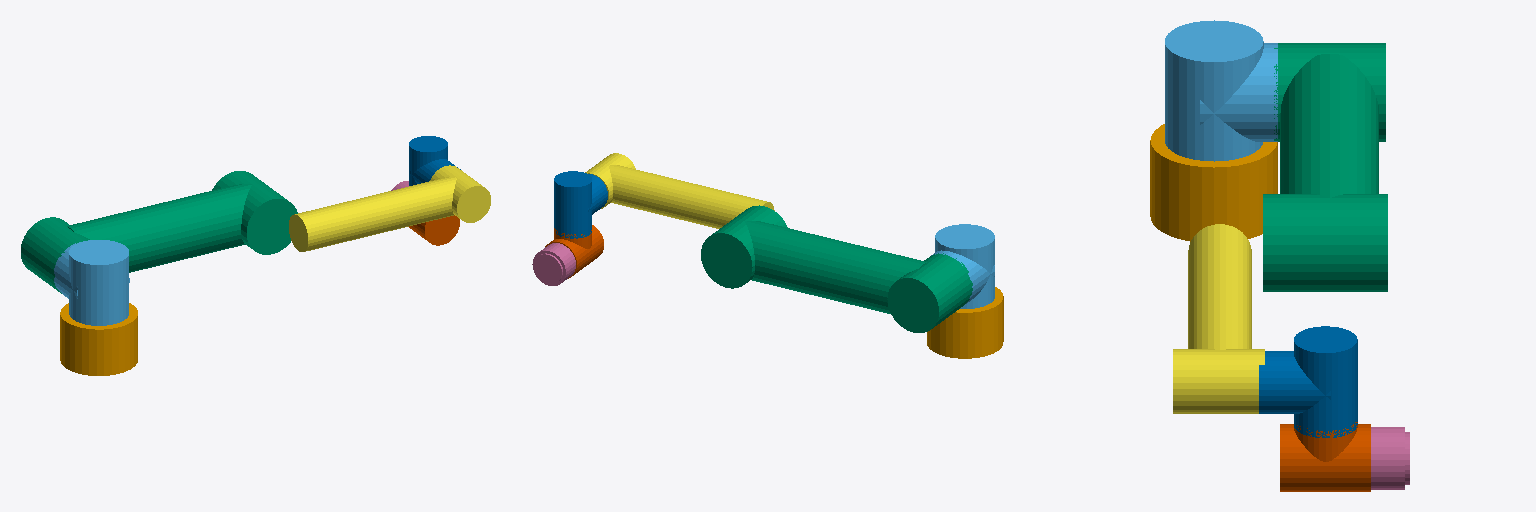
The robot description file, URDF, robot "UR5e":
<?xml version="1.0"?>
<robot name="UR5e" xmlns:xacro="http://ros.org/wiki/xacro">
  <link name="base_link">
    <visual>
      <origin xyz="0 0 0.05" rpy="-3.4711796007606996e-15 0 0"/>
      <geometry>
        <cylinder radius="0.076" length="0.1"/>
      </geometry>
    </visual>
    <collision>
      <origin xyz="0 0 0.05" rpy="-3.4711796007606996e-15 0 0"/>
      <geometry>
        <cylinder radius="0.076" length="0.1"/>
      </geometry>
    </collision>
  </link>
  <joint name="shoulder_pan_joint_sensor" type="revolute">
    <parent link="base_link"/>
    <child link="shoulder_link"/>
    <axis xyz="0 0 1"/>
    <limit effort="150" lower="-6.28319" upper="6.28319" velocity="3.14"/>
    <origin xyz="0 0 0.163" rpy="0 0 0"/>
  </joint>
  <link name="shoulder_link">
    <visual>
      <origin xyz="0 0 0" rpy="-3.4711796007606996e-15 0 0"/>
      <geometry>
        <cylinder radius="0.059" length="0.135"/>
      </geometry>
    </visual>
    <collision>
      <origin xyz="0 0 0" rpy="-3.4711796007606996e-15 0 0"/>
      <geometry>
        <cylinder radius="0.059" length="0.135"/>
      </geometry>
    </collision>
    <visual>
      <origin xyz="0 0.03 0" rpy="1.5707963133974483 0 0"/>
      <geometry>
        <cylinder radius="0.059" length="0.093"/>
      </geometry>
    </visual>
    <collision>
      <origin xyz="0 0.03 0" rpy="1.5707963133974483 0 0"/>
      <geometry>
        <cylinder radius="0.059" length="0.093"/>
      </geometry>
    </collision>
  </link>
  <joint name="shoulder_lift_joint_sensor" type="revolute">
    <parent link="shoulder_link"/>
    <child link="upper_arm_link"/>
    <axis xyz="0 1 0"/>
    <limit effort="150" lower="-6.28319" upper="6.28319" velocity="3.14"/>
    <origin xyz="0 0.138 0" rpy="0 1.5707959999869179 0"/>
  </joint>
  <link name="upper_arm_link">
    <visual>
      <origin xyz="0 0 0.22" rpy="-3.4711796007606996e-15 0 0"/>
      <geometry>
        <cylinder radius="0.059" length="0.407"/>
      </geometry>
    </visual>
    <collision>
      <origin xyz="0 0 0.22" rpy="-3.4711796007606996e-15 0 0"/>
      <geometry>
        <cylinder radius="0.059" length="0.407"/>
      </geometry>
    </collision>
    <visual>
      <origin xyz="0 0 0" rpy="1.5707963 0 0"/>
      <geometry>
        <cylinder radius="0.059" length="0.133"/>
      </geometry>
    </visual>
    <collision>
      <origin xyz="0 0 0" rpy="1.5707963 0 0"/>
      <geometry>
        <cylinder radius="0.059" length="0.133"/>
      </geometry>
    </collision>
    <visual>
      <origin xyz="0 -0.005 0.424" rpy="1.5707963133974483 0 0"/>
      <geometry>
        <cylinder radius="0.059" length="0.149"/>
      </geometry>
    </visual>
    <collision>
      <origin xyz="0 -0.005 0.424" rpy="1.5707963133974483 0 0"/>
      <geometry>
        <cylinder radius="0.059" length="0.149"/>
      </geometry>
    </collision>
  </link>
  <joint name="elbow_joint_sensor" type="revolute">
    <parent link="upper_arm_link"/>
    <child link="forearm_link"/>
    <axis xyz="0 1 0"/>
    <limit effort="150" lower="-3.14159" upper="3.14159" velocity="3.14"/>
    <origin xyz="0 -0.131 0.425" rpy="0 0 0"/>
  </joint>
  <link name="forearm_link">
    <visual>
      <origin xyz="0 0 0.207" rpy="-3.4711796007606996e-15 0 0"/>
      <geometry>
        <cylinder radius="0.038" length="0.36"/>
      </geometry>
    </visual>
    <collision>
      <origin xyz="0 0 0.207" rpy="-3.4711796007606996e-15 0 0"/>
      <geometry>
        <cylinder radius="0.038" length="0.36"/>
      </geometry>
    </collision>
    <visual>
      <origin xyz="0 -0.001 0.39" rpy="1.5707963133974483 0 0"/>
      <geometry>
        <cylinder radius="0.039" length="0.109"/>
      </geometry>
    </visual>
    <collision>
      <origin xyz="0 -0.001 0.39" rpy="1.5707963133974483 0 0"/>
      <geometry>
        <cylinder radius="0.039" length="0.109"/>
      </geometry>
    </collision>
  </link>
  <joint name="wrist_1_joint_sensor" type="revolute">
    <parent link="forearm_link"/>
    <child link="wrist_1_link"/>
    <axis xyz="0 1 0"/>
    <limit effort="28" lower="-6.28319" upper="6.28319" velocity="6.28"/>
    <origin xyz="0 0 0.392" rpy="0 1.5707959999869179 0"/>
  </joint>
  <link name="wrist_1_link">
    <visual>
      <origin xyz="0 0.089 0" rpy="1.5707963133974483 0 0"/>
      <geometry>
        <cylinder radius="0.038" length="0.086"/>
      </geometry>
    </visual>
    <collision>
      <origin xyz="0 0.089 0" rpy="1.5707963133974483 0 0"/>
      <geometry>
        <cylinder radius="0.038" length="0.086"/>
      </geometry>
    </collision>
    <visual>
      <origin xyz="0 0.126 0" rpy="-3.4711796007606996e-15 0 0"/>
      <geometry>
        <cylinder radius="0.038" length="0.112"/>
      </geometry>
    </visual>
    <collision>
      <origin xyz="0 0.126 0" rpy="-3.4711796007606996e-15 0 0"/>
      <geometry>
        <cylinder radius="0.038" length="0.112"/>
      </geometry>
    </collision>
  </link>
  <joint name="wrist_2_joint_sensor" type="revolute">
    <parent link="wrist_1_link"/>
    <child link="wrist_2_link"/>
    <axis xyz="0 0 1"/>
    <limit effort="28" lower="-6.28319" upper="6.28319" velocity="6.28"/>
    <origin xyz="0 0.127 0" rpy="0 0 0"/>
  </joint>
  <link name="wrist_2_link">
    <visual>
      <origin xyz="0 -0.001 0.0995" rpy="1.5707963133974483 0 0"/>
      <geometry>
        <cylinder radius="0.04" length="0.108"/>
      </geometry>
    </visual>
    <collision>
      <origin xyz="0 -0.001 0.0995" rpy="1.5707963133974483 0 0"/>
      <geometry>
        <cylinder radius="0.04" length="0.108"/>
      </geometry>
    </collision>
    <visual>
      <origin xyz="0 -0.001 0.0676" rpy="-3.4711796007606996e-15 0 0"/>
      <geometry>
        <cylinder radius="0.038" length="0.043"/>
      </geometry>
    </visual>
    <collision>
      <origin xyz="0 -0.001 0.0676" rpy="-3.4711796007606996e-15 0 0"/>
      <geometry>
        <cylinder radius="0.038" length="0.043"/>
      </geometry>
    </collision>
  </link>
  <joint name="wrist_3_joint_sensor" type="revolute">
    <parent link="wrist_2_link"/>
    <child link="wrist_3_link"/>
    <axis xyz="0 1 0"/>
    <limit effort="28" lower="-6.28319" upper="6.28319" velocity="6.28"/>
    <origin xyz="0 0 0.1" rpy="0 0 0"/>
  </joint>
  <link name="wrist_3_link">
    <visual>
      <origin xyz="0 0.07 0" rpy="1.5707963133974483 0 0"/>
      <geometry>
        <cylinder radius="0.038" length="0.048"/>
      </geometry>
    </visual>
    <collision>
      <origin xyz="0 0.07 0" rpy="1.5707963133974483 0 0"/>
      <geometry>
        <cylinder radius="0.038" length="0.048"/>
      </geometry>
    </collision>
    <visual>
      <origin xyz="0 0.09 0" rpy="1.5707963133974483 0 0"/>
      <geometry>
        <cylinder radius="0.032" length="0.018"/>
      </geometry>
    </visual>
    <collision>
      <origin xyz="0 0.09 0" rpy="1.5707963133974483 0 0"/>
      <geometry>
        <cylinder radius="0.032" length="0.018"/>
      </geometry>
    </collision>
  </link>
  <link name="track_354">
  </link>
  <joint name="wrist_3_link_track_354_joint" type="fixed">
    <parent link="wrist_3_link"/>
    <child link="track_354"/>
    <origin xyz="0 0.1 0" rpy="0 0 0"/>
  </joint>
</robot>

--- Facts derived from the render (not from the file) ---
Views: 3 orthographic renders of the robot side by side, from view 1: azimuth 30°, elevation 25°; view 2: azimuth 150°, elevation 25°; view 3: azimuth 270°, elevation 25°.
Model UR5e with 8 links and 7 joints (6 revolute, 1 fixed), rooted at base_link, posed every joint at zero.
Links seen in each view (by area): view 1: upper_arm_link, forearm_link, shoulder_link, base_link, wrist_1_link, wrist_2_link; view 2: upper_arm_link, forearm_link, base_link, shoulder_link, wrist_1_link, wrist_3_link, wrist_2_link; view 3: upper_arm_link, shoulder_link, forearm_link, base_link, wrist_1_link, wrist_2_link, wrist_3_link.
Boxes of the visible links, <box> form: upper_arm_link: <box>21,171,297,293</box>; forearm_link: <box>289,165,490,251</box>; shoulder_link: <box>54,240,129,325</box>; base_link: <box>60,303,137,375</box>; wrist_1_link: <box>409,136,460,185</box>; wrist_2_link: <box>409,215,459,245</box>; upper_arm_link: <box>701,205,972,332</box>; forearm_link: <box>585,153,774,228</box>; base_link: <box>927,287,1003,358</box>; shoulder_link: <box>931,224,994,308</box>; wrist_1_link: <box>554,171,607,238</box>; wrist_3_link: <box>532,243,575,285</box>; wrist_2_link: <box>545,225,603,278</box>; upper_arm_link: <box>1263,43,1387,291</box>; shoulder_link: <box>1165,20,1277,161</box>; forearm_link: <box>1173,224,1264,413</box>; base_link: <box>1150,124,1277,241</box>; wrist_1_link: <box>1259,326,1357,437</box>; wrist_2_link: <box>1280,422,1370,491</box>; wrist_3_link: <box>1371,427,1409,489</box>.
Bounding box of the posed robot: 0.933 × 0.309 × 0.2305 m (x, y, z).
Geometry: primitives only (box / cylinder / sphere), no mesh files.